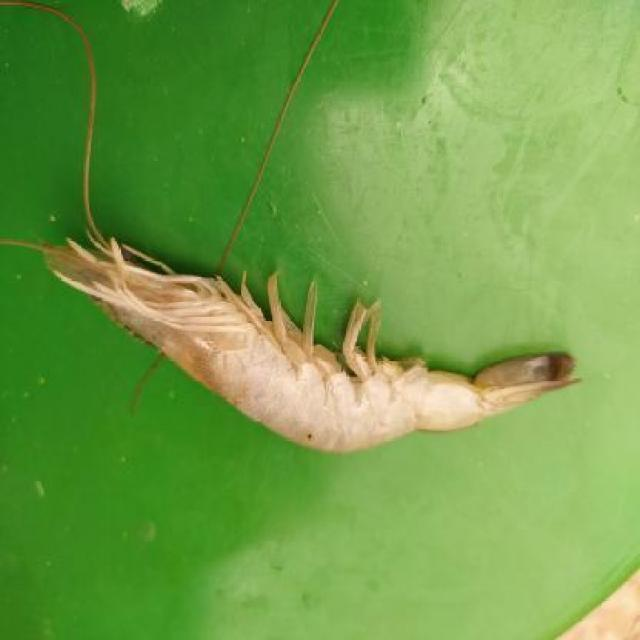shrimp: (72, 244, 559, 451)
